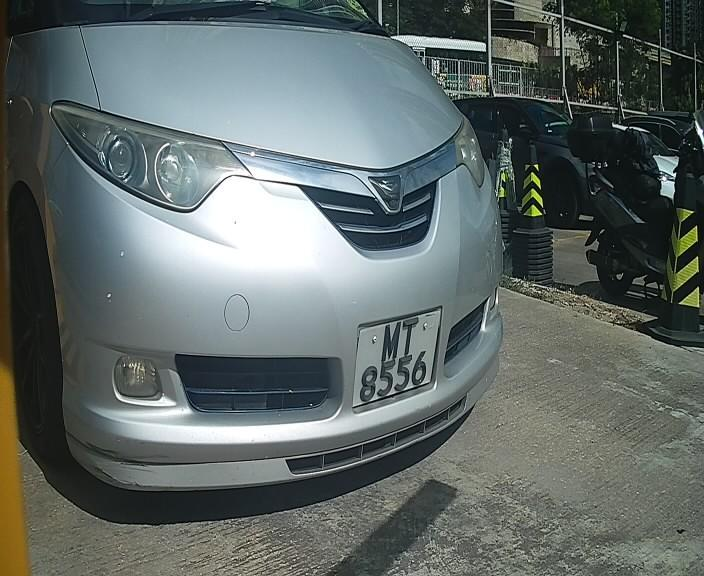License Plate: (346, 301, 447, 422)
